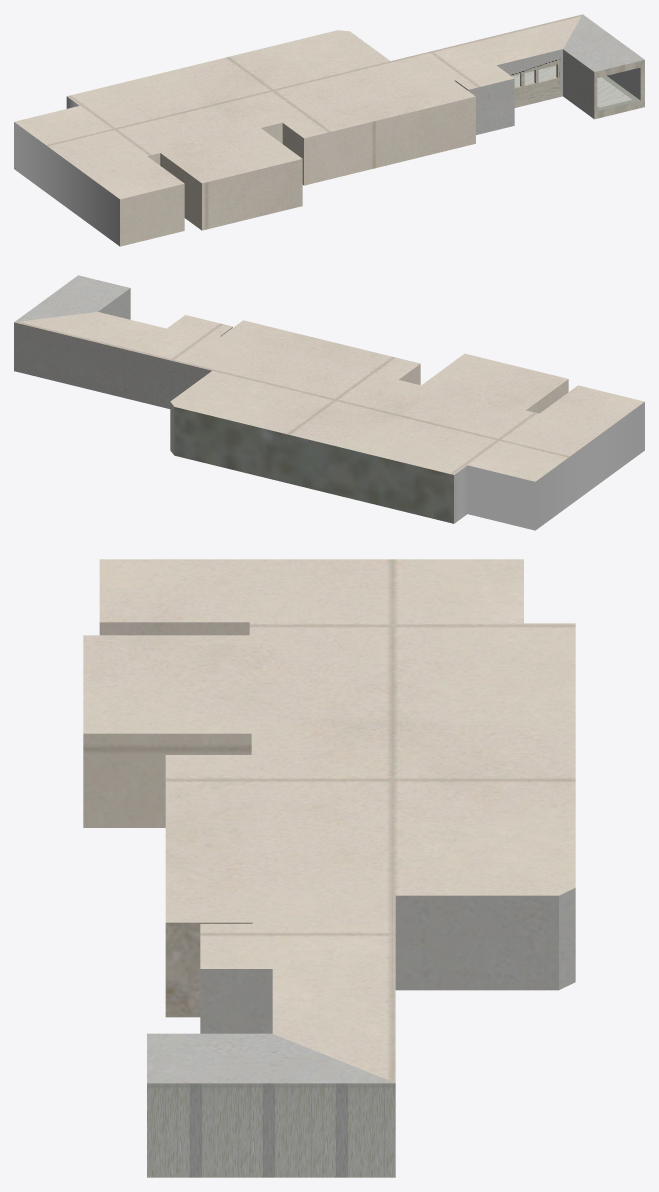
The model's file is env_traumaShell02.FBX.
The picture shows the model from 3 angles, top to bottom: view 1: azimuth 30°, elevation 25°; view 2: azimuth 150°, elevation 25°; view 3: azimuth 270°, elevation 25°; orthographic projection. The views are drawn at different scales.
Parts seen in each view (by area): view 1: trauma; view 2: trauma; view 3: trauma.
Boxes of the visible parts, x1,y1,x2,y2 form: trauma: (14, 14, 644, 246); trauma: (14, 275, 644, 530); trauma: (83, 559, 575, 1177).
Size of the model in its own units: 51.5 by 4.33 by 20.46.
